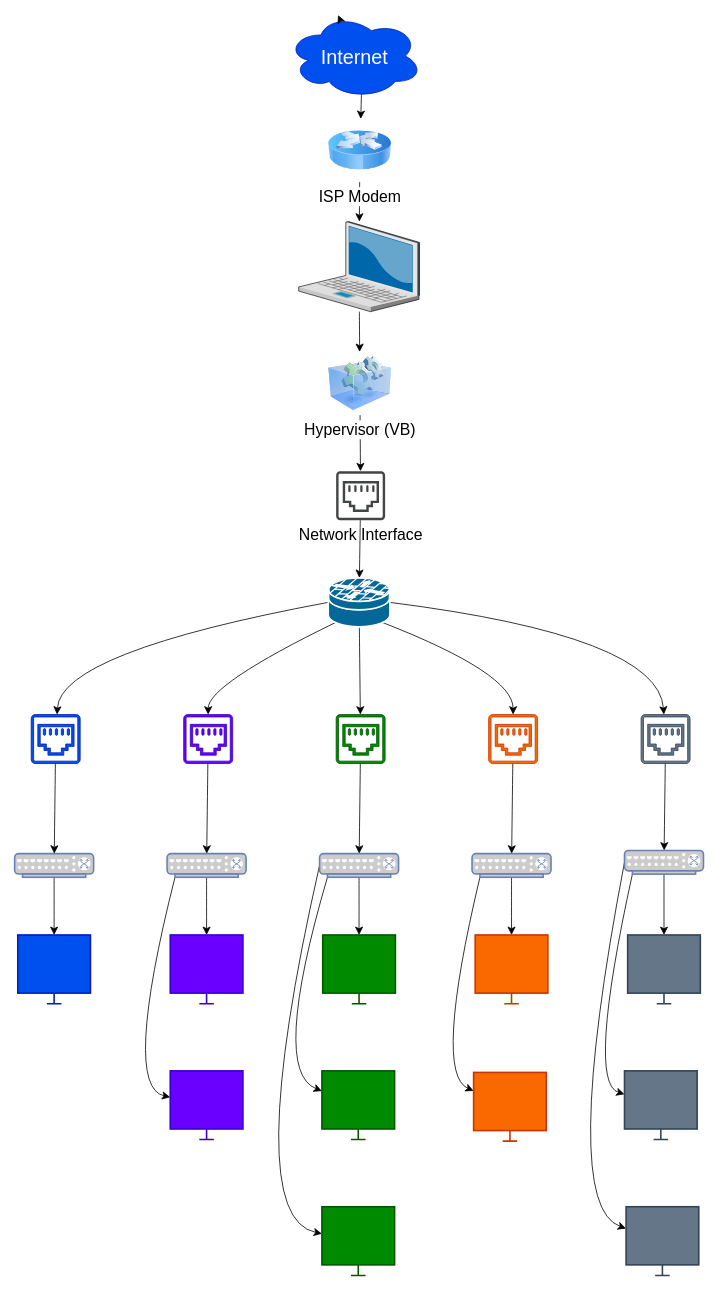
This 717x1290 diagram has some shape labels left out. Here are the shapes that lost their labels. From the top down, the box of each, then its label:
(298, 221, 419, 312): Host Machine
(327, 577, 390, 627): Firewall/Router "pfSense"
